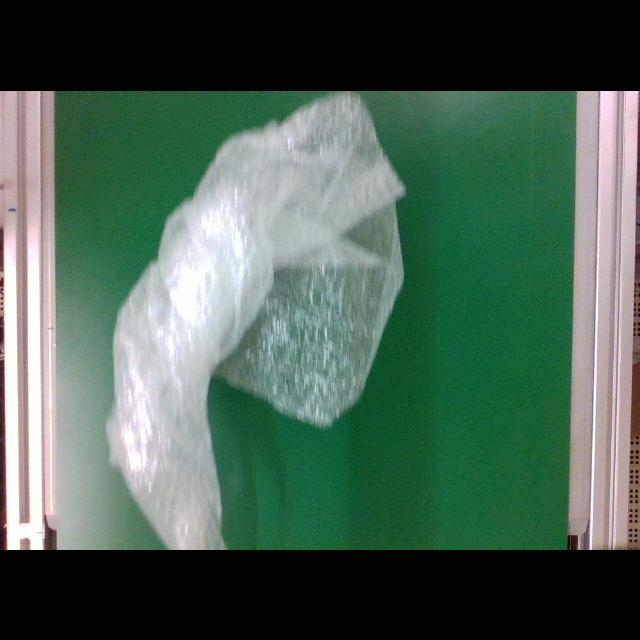scrap_plastic: (106, 91, 407, 549)
